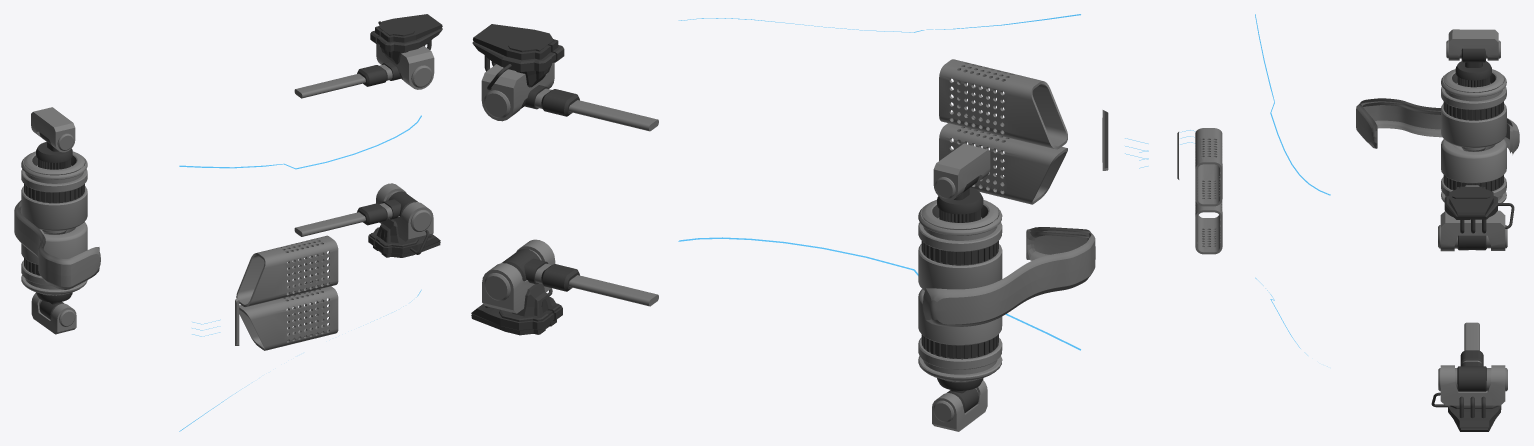
File: bumper.glb
3 renders of one model, left to right at view 1: azimuth 30°, elevation 25°; view 2: azimuth 150°, elevation 25°; view 3: azimuth 270°, elevation 25°, orthographic. The views are drawn at different scales.
Visible parts, largest first — view 1: bumper; view 2: bumper; view 3: bumper.
Part boxes in pixels (x1=…): bumper: x1=14, y1=14, x2=442, y2=431; bumper: x1=471, y1=14, x2=1148, y2=431; bumper: x1=1177, y1=14, x2=1519, y2=431.
Size of the model in its own units: 1.87 by 1.09 by 1.28.
